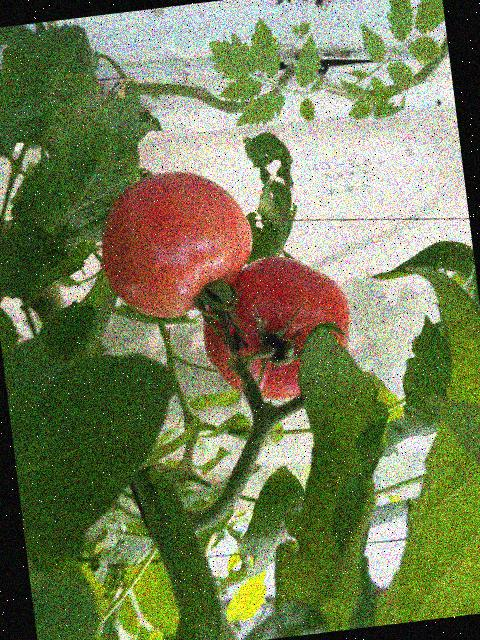b_fully_ripened: (93, 162, 261, 324), (194, 246, 360, 407)
